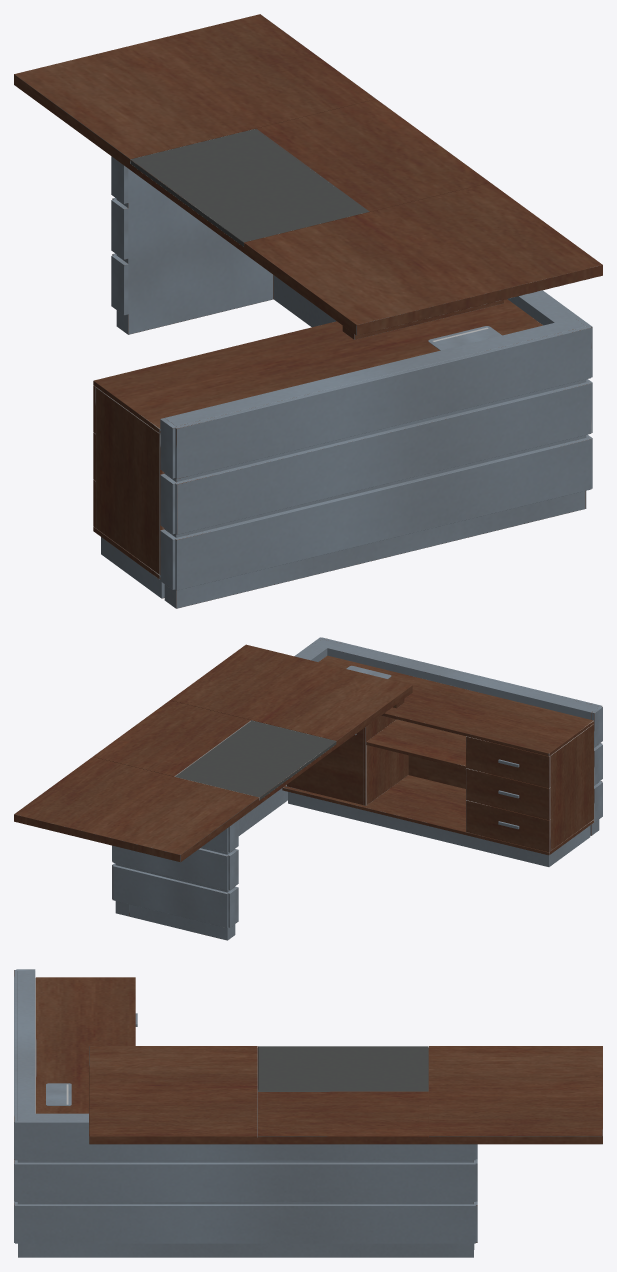
File: betamasa3d.glb
3 renders of one model, top to bottom at view 1: azimuth 30°, elevation 25°; view 2: azimuth 150°, elevation 25°; view 3: azimuth 270°, elevation 25°, orthographic. The views are drawn at different scales.
Visible parts, largest first — view 1: ASSET_Joined; view 2: ASSET_Joined; view 3: ASSET_Joined.
Boxes of the visible parts, x1,y1,x2,y2 form: ASSET_Joined: (14,14,602,608); ASSET_Joined: (14,637,602,940); ASSET_Joined: (14,969,602,1257).
Bounding box in the file's own units: 1.94 × 0.7504 × 2.76.
1 material, 1 textured.
